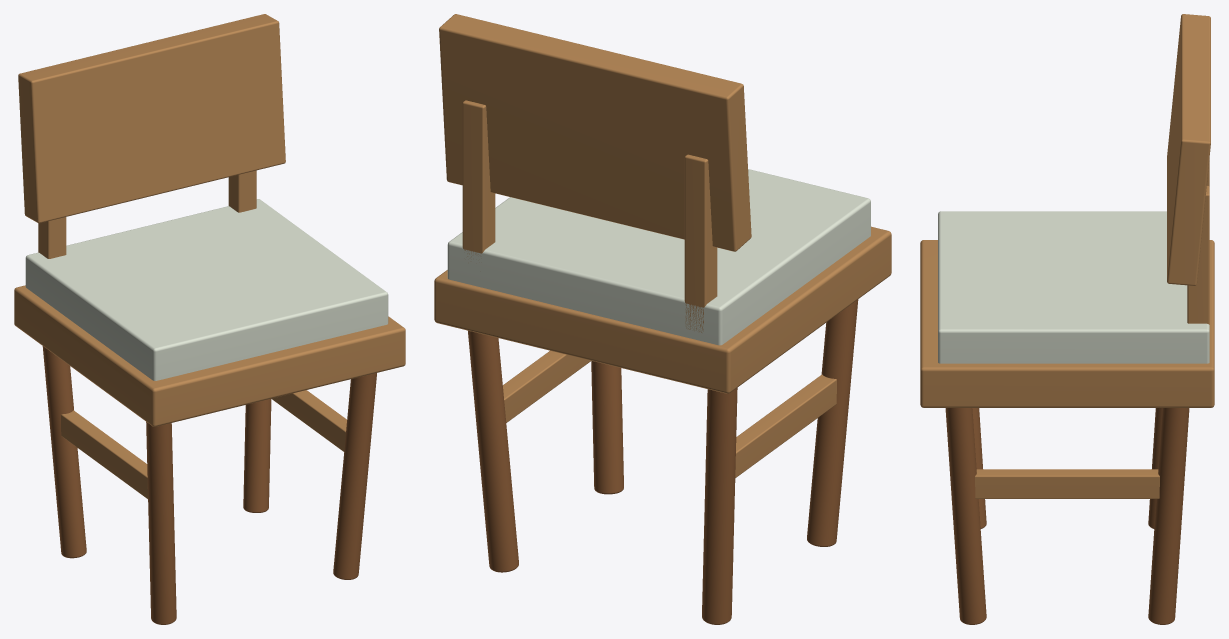
3 views of the same model, side by side, from view 1: azimuth 30°, elevation 25°; view 2: azimuth 150°, elevation 25°; view 3: azimuth 270°, elevation 25° (orthographic). The views are drawn at different scales.
Parts seen in each view (by area): view 1: back, cushion, seat, leg_3, leg_1, leg_0, rail_left, leg_2, rail_right; view 2: back, cushion, seat, leg_2, leg_0, leg_1, rail_left, leg_3, rail_right; view 3: cushion, seat, back, leg_2, leg_3, rail_right, leg_0, leg_1.
Part boxes in pixels (<box>): back: <box>18,14,285,258</box>; cushion: <box>25,199,388,380</box>; seat: <box>14,285,405,426</box>; leg_3: <box>333,373,376,579</box>; leg_1: <box>146,422,176,624</box>; leg_0: <box>42,346,86,558</box>; rail_left: <box>61,410,147,498</box>; leg_2: <box>243,399,271,512</box>; rail_right: <box>271,390,346,451</box>; back: <box>439,14,751,332</box>; cushion: <box>447,169,870,345</box>; seat: <box>434,226,891,393</box>; leg_2: <box>468,330,518,572</box>; leg_0: <box>702,387,737,624</box>; leg_1: <box>807,299,858,546</box>; rail_left: <box>735,374,836,477</box>; leg_3: <box>591,361,623,494</box>; rail_right: <box>503,350,591,422</box>; cushion: <box>938,211,1209,363</box>; seat: <box>920,240,1214,407</box>; back: <box>1167,14,1210,324</box>; leg_2: <box>1148,408,1189,624</box>; leg_3: <box>945,408,986,624</box>; rail_right: <box>975,469,1159,498</box>; leg_0: <box>1148,408,1162,528</box>; leg_1: <box>972,408,986,528</box>.
Bounding box in the file's own units: 0.48 × 0.857 × 0.46.
